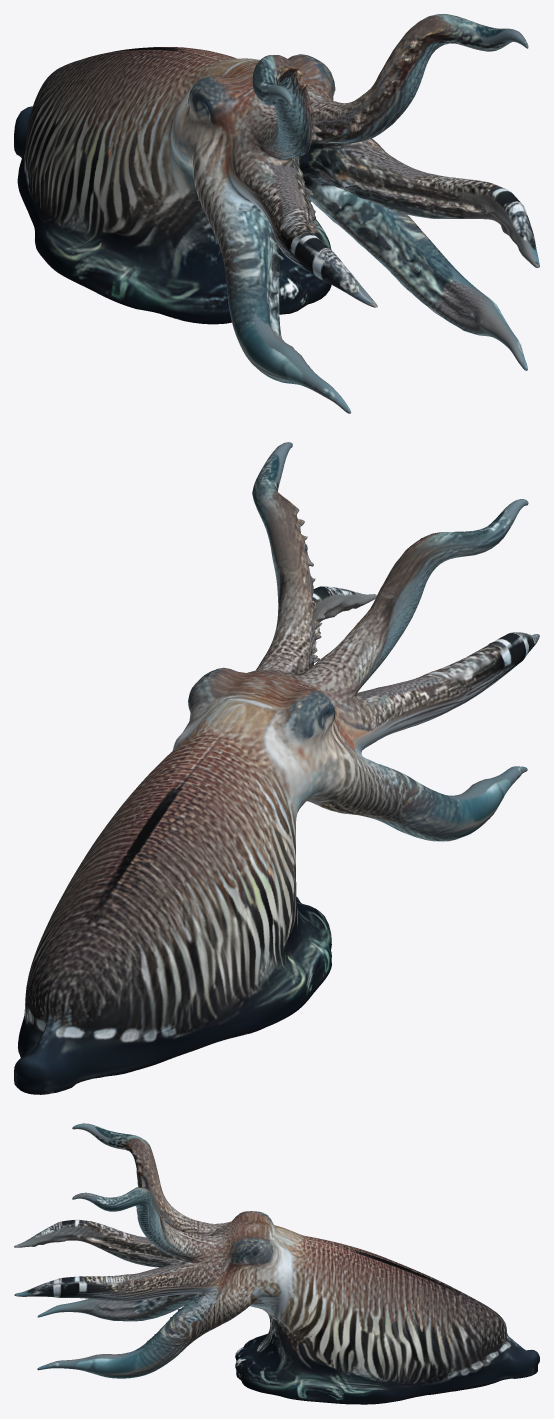
The model's file is vceyxz-xxfsxx.glb.
The picture shows the model from 3 angles, top to bottom: view 1: azimuth 30°, elevation 25°; view 2: azimuth 150°, elevation 25°; view 3: azimuth 270°, elevation 25°; orthographic projection. The views are drawn at different scales.
Parts seen in each view (by area): view 1: model; view 2: model; view 3: model.
Boxes of the visible parts, box(x1,y1,x2,y2) form: model: box(14, 14, 539, 413); model: box(14, 442, 539, 1094); model: box(14, 1123, 539, 1404).
Size of the model in its own units: 0.6231 by 0.8453 by 1.9.
1 material, 1 textured.
